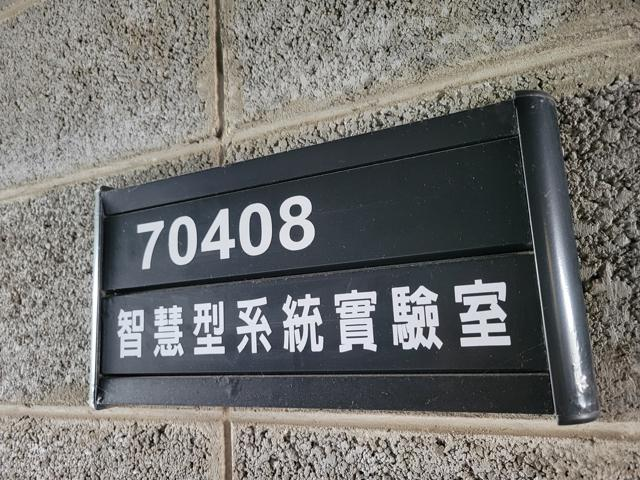doorplate: (82, 82, 605, 432)
